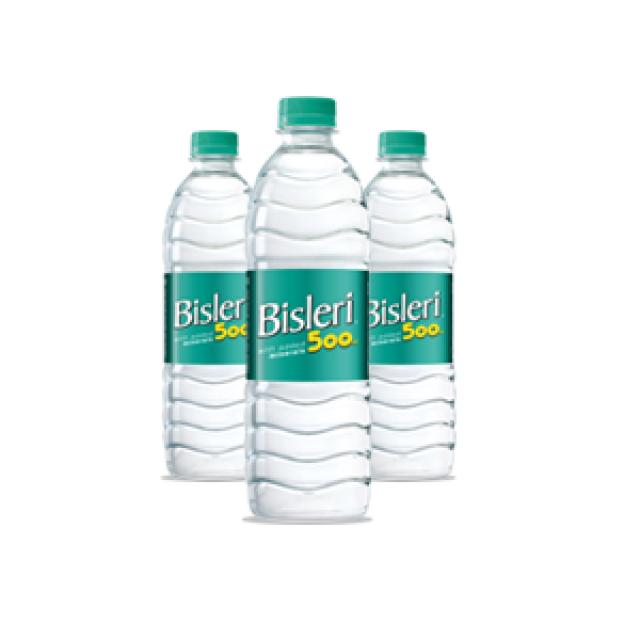bottle: (142, 52, 516, 576)
